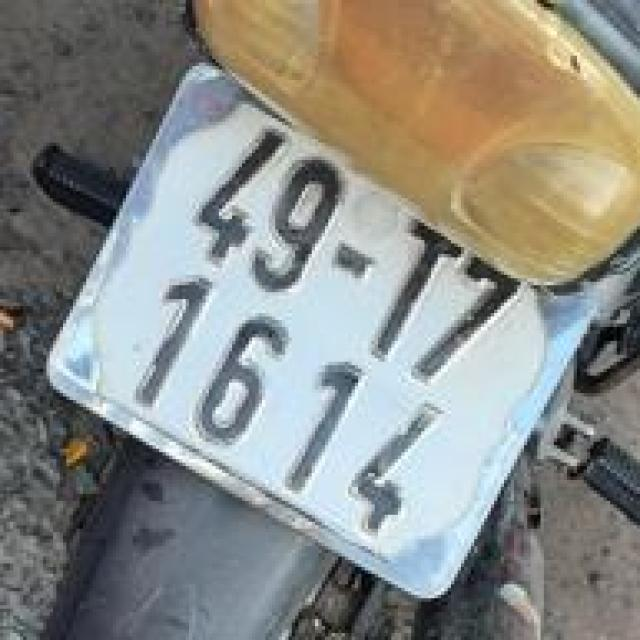1: (259, 338, 378, 520), (112, 254, 230, 431)
4: (309, 371, 470, 568), (174, 100, 308, 287)
6: (165, 292, 313, 471)
7: (395, 234, 538, 405)
9: (224, 124, 376, 320)
T: (345, 203, 480, 391)
